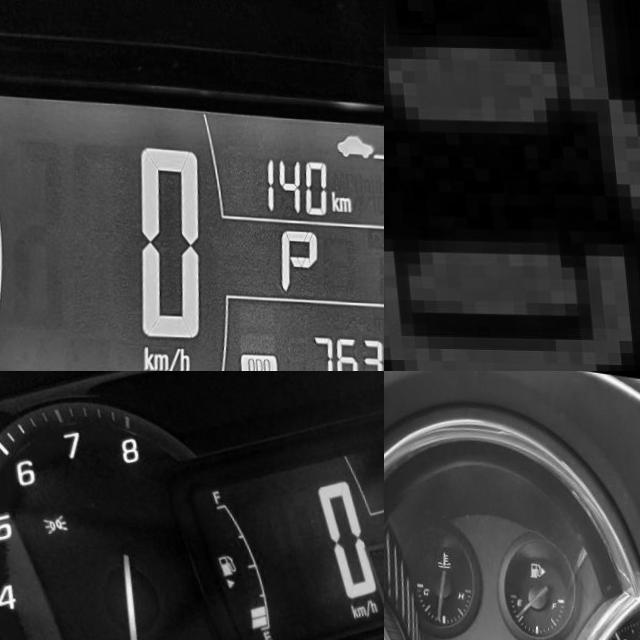Doors: (384, 0, 640, 371)
SideLamp: (36, 511, 63, 534)
